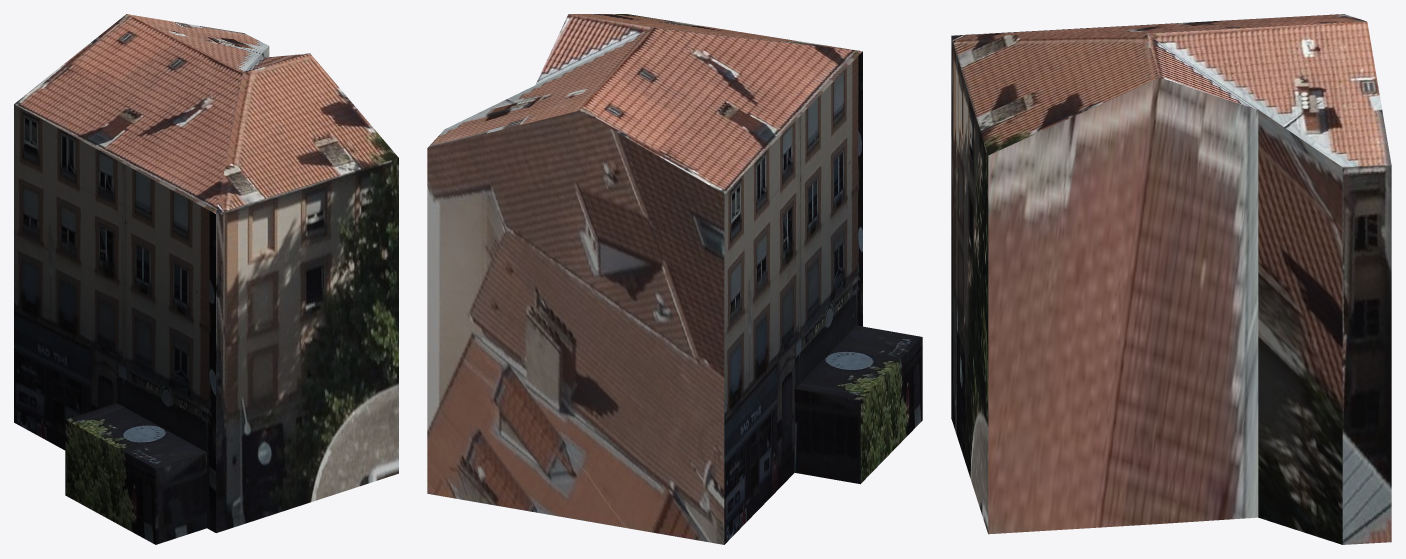
3 renders of one model, left to right at view 1: azimuth 30°, elevation 25°; view 2: azimuth 150°, elevation 25°; view 3: azimuth 270°, elevation 25°, orthographic. The views are drawn at different scales.
Visible parts, largest first — view 1: Z_UP; view 2: Z_UP; view 3: Z_UP.
Boxes of the visible parts, box(x1,y1,x2,y2) form: Z_UP: box(14, 14, 398, 544); Z_UP: box(427, 14, 922, 544); Z_UP: box(951, 14, 1391, 544).
Size of the model in its own units: 14.53 by 17.84 by 15.89.
2 materials, 1 textured.
